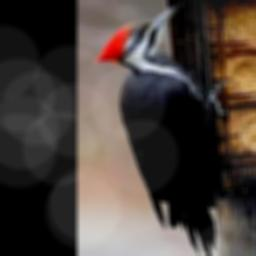Woodpecker: (94, 2, 228, 256)
